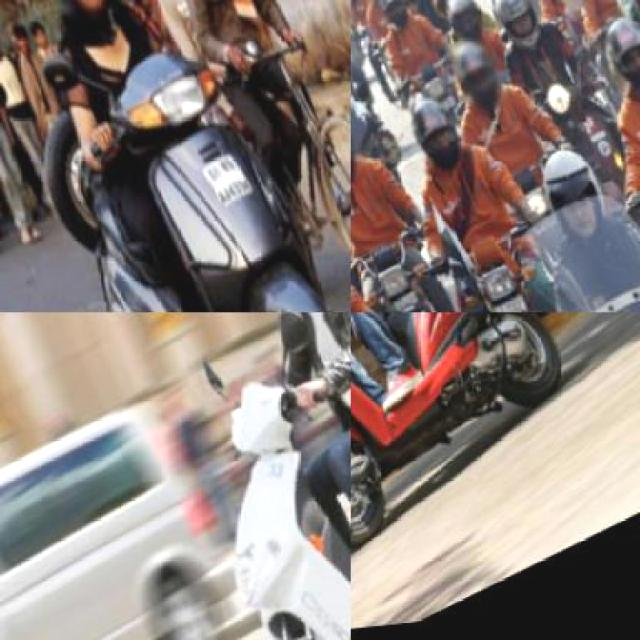With Helmet: (524, 138, 621, 267), (394, 85, 472, 184), (581, 0, 638, 118), (444, 30, 510, 124), (477, 0, 557, 72), (37, 0, 135, 40), (438, 0, 489, 54), (351, 104, 371, 196), (374, 0, 414, 37), (356, 0, 392, 11)
